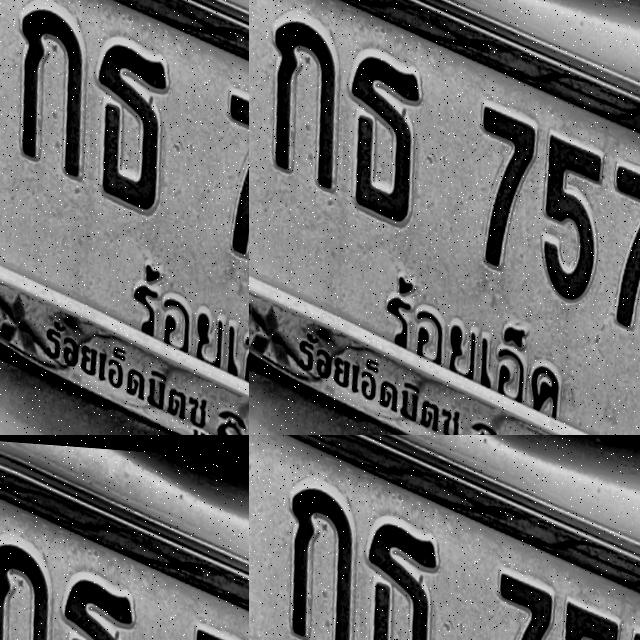license-plate: (249, 435, 640, 640), (0, 435, 249, 640), (249, 0, 510, 162)
